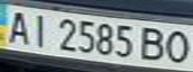2: (51, 16, 78, 52)
5: (112, 22, 139, 60), (75, 19, 96, 55)
8: (93, 20, 118, 57)
A: (3, 7, 33, 45)
B: (136, 25, 169, 62)
I: (27, 11, 54, 47)
O: (160, 28, 193, 65)
